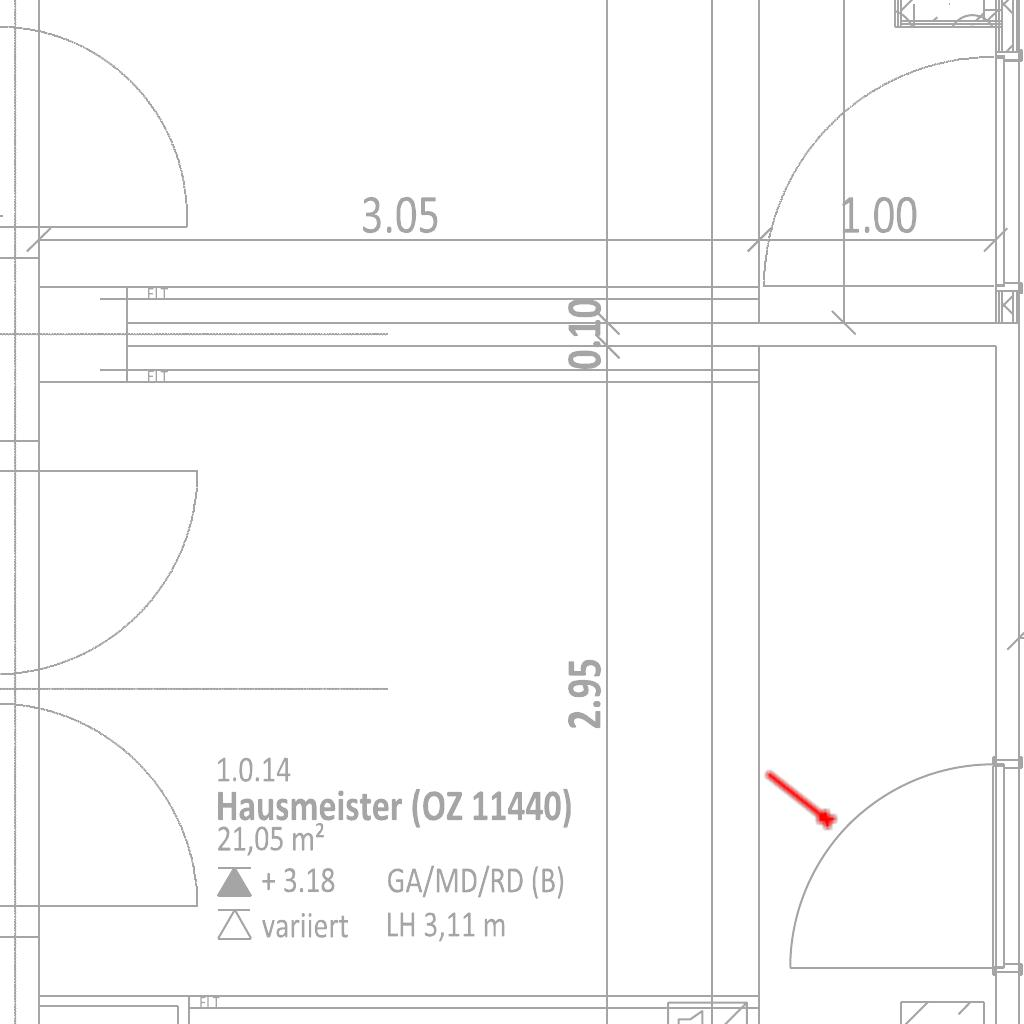ASR_Ansaugoeffnung: (757, 763, 841, 836)
